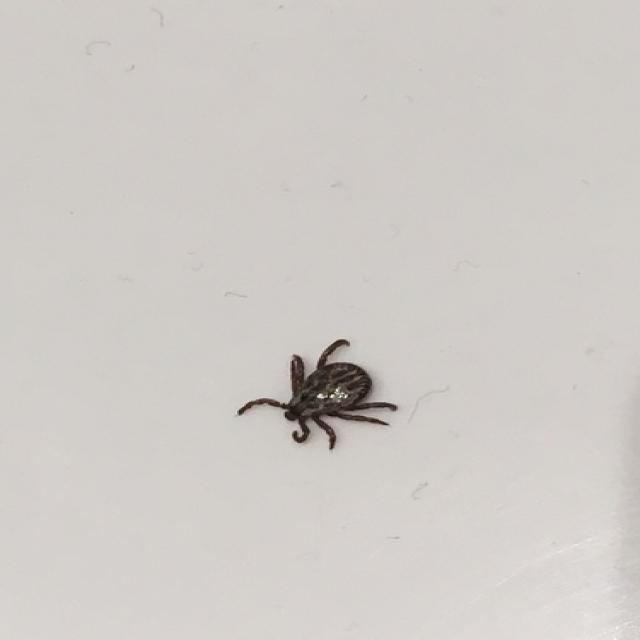Dermacentor Reticulatus-M: (236, 339, 401, 454)
